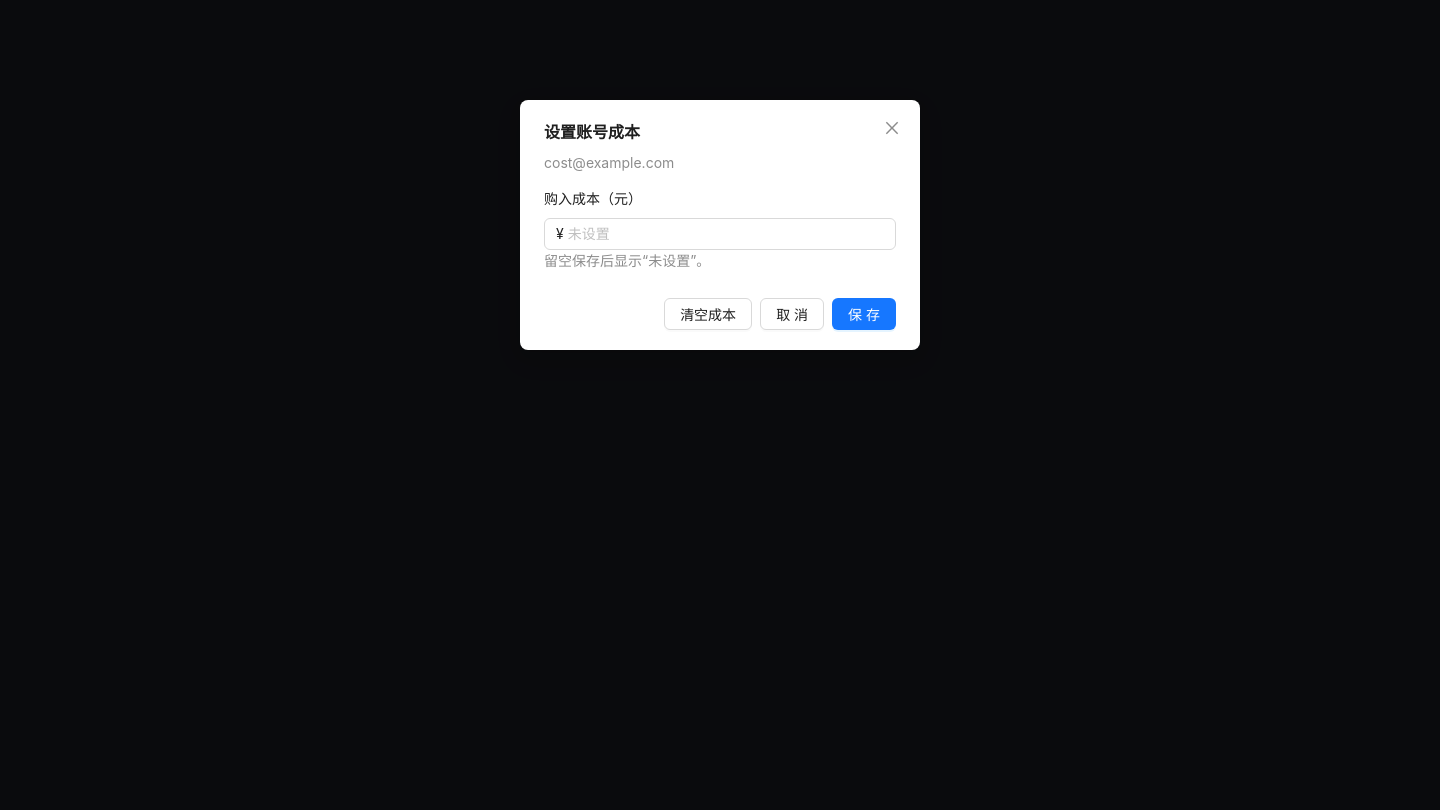
Scenario: AccountCostModal › rejects an out-of-range cost -1 before saving
The image size is (1440, 810).
Type "-1" into the number field labelled "购入成本（元）". click: [731, 234]
box: [568,219,895,249]
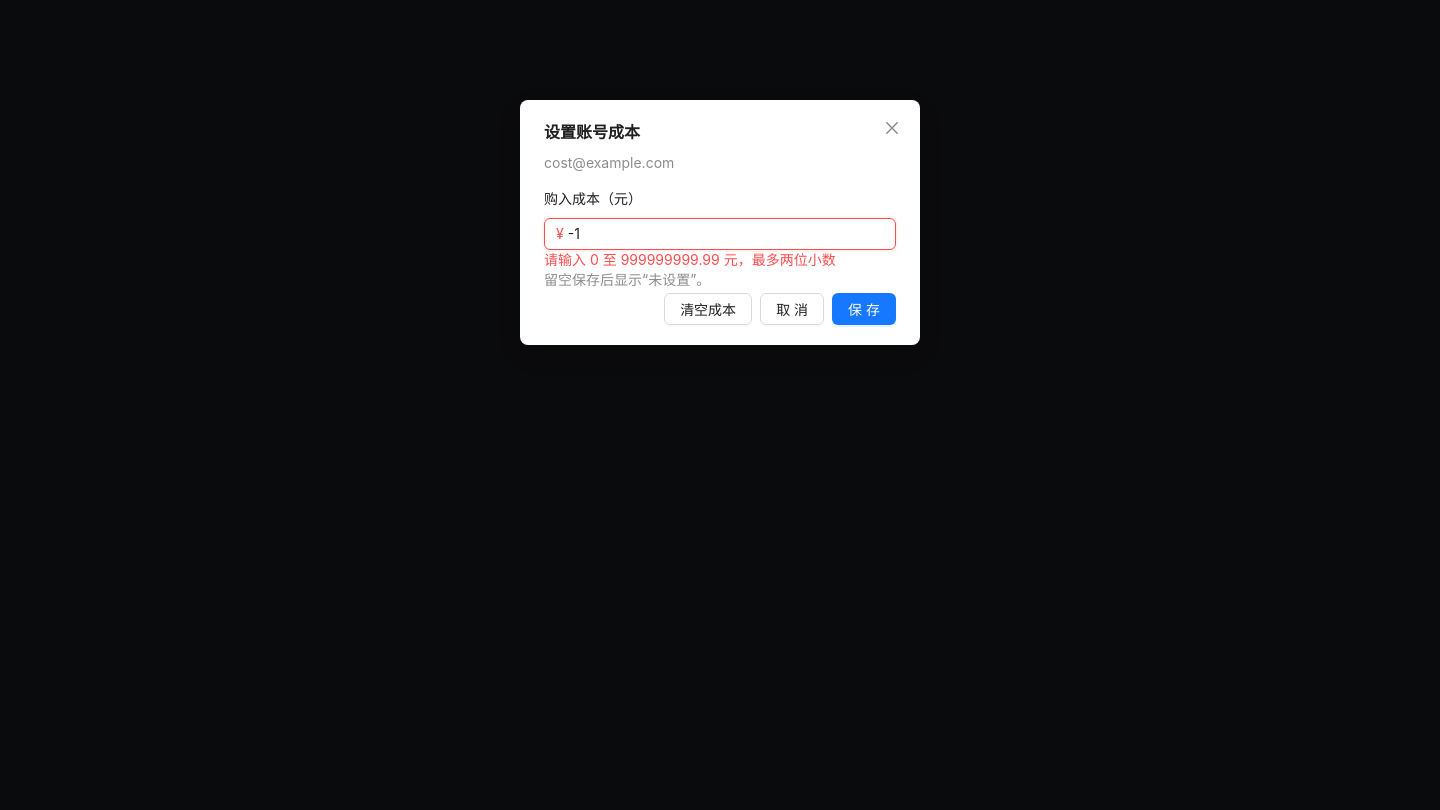
Click the button "保 存". click: [864, 312]
box: [832,296,896,328]
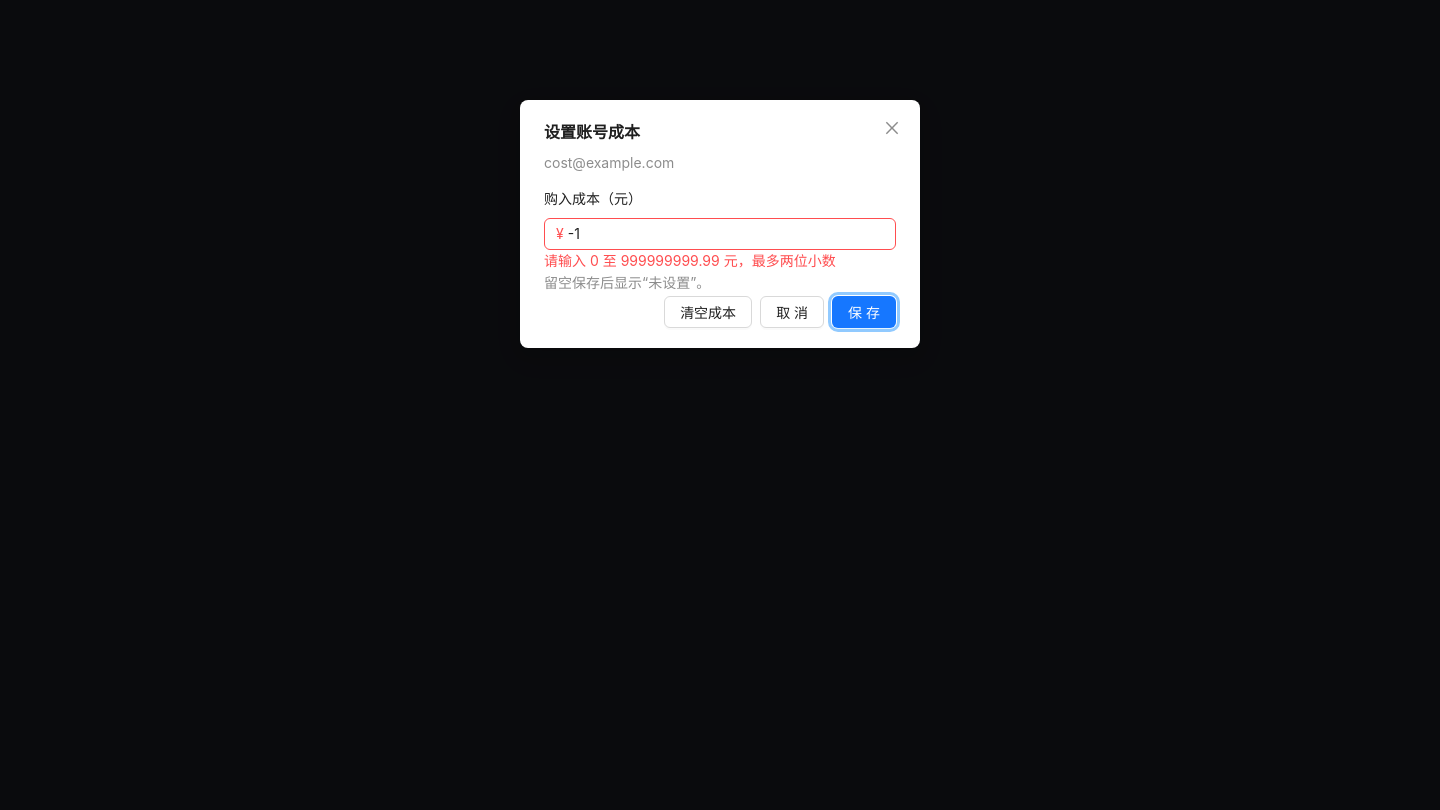
Expected: the text "请输入 0 至 999999999.99 元，最多两位小数" is shown, [544,252,836,269]
